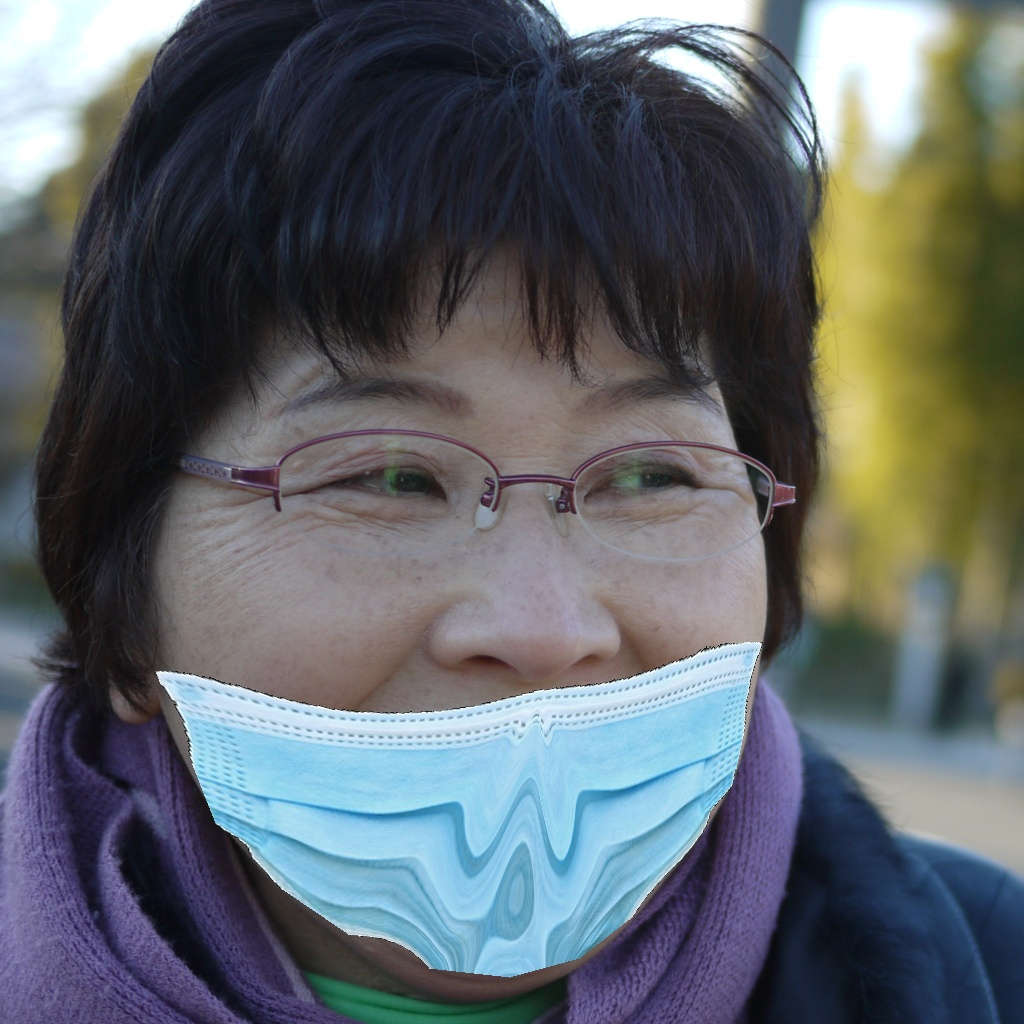mascarilla_mal_puesta: (71, 358, 818, 970)
